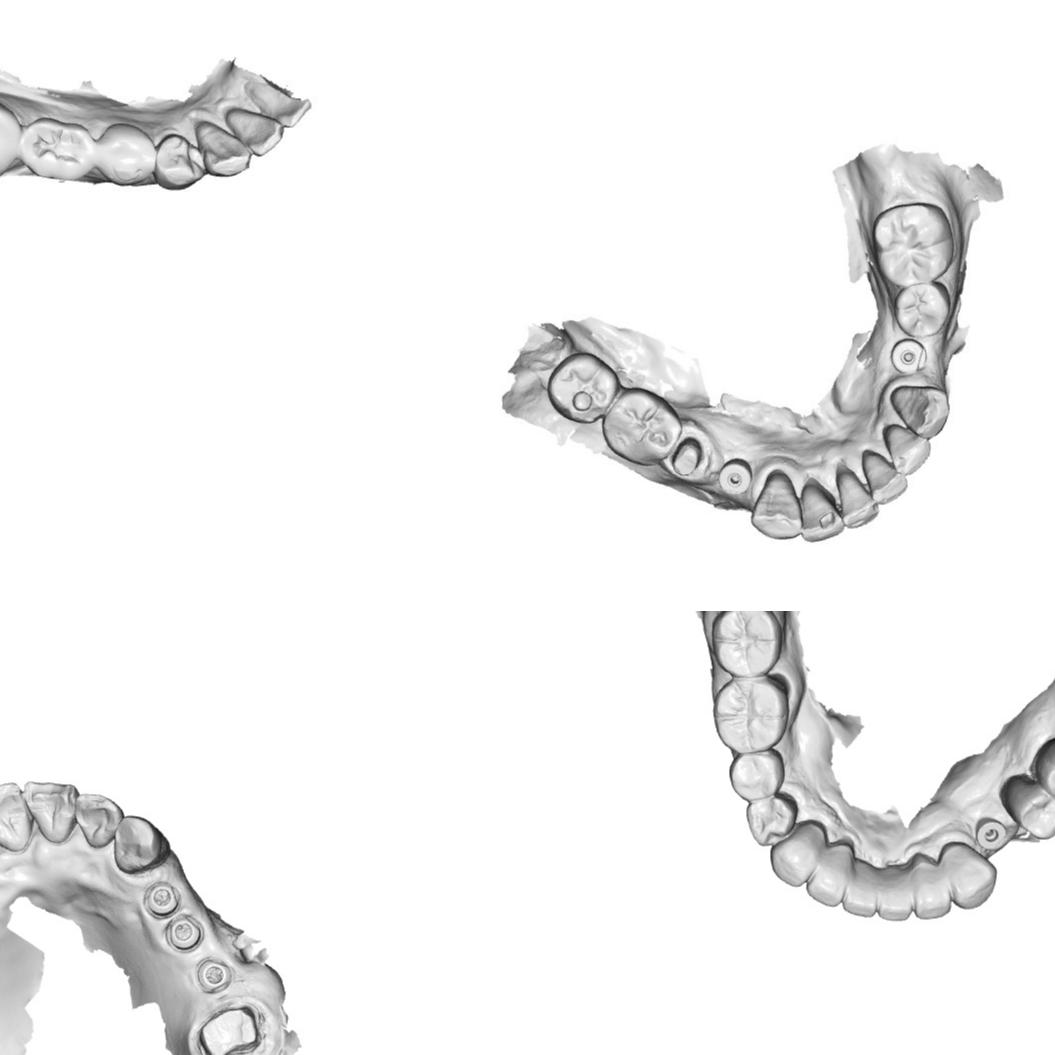canine: (938, 840, 998, 911), (750, 470, 801, 547), (769, 820, 827, 887), (886, 382, 950, 441), (112, 814, 171, 876), (153, 134, 206, 194)
crown: (194, 1001, 262, 1055), (671, 435, 702, 478)
implant: (142, 880, 182, 918), (166, 914, 203, 952), (196, 956, 232, 994), (889, 336, 924, 371), (719, 459, 750, 498), (974, 817, 1006, 850)
incisor: (22, 780, 80, 845), (805, 842, 854, 907), (796, 485, 845, 546), (73, 792, 125, 849), (199, 120, 250, 176), (911, 852, 952, 920), (837, 467, 881, 526), (886, 426, 931, 480), (863, 450, 907, 505), (0, 780, 34, 851), (229, 110, 283, 152), (876, 864, 913, 922), (842, 858, 876, 917)
molar: (869, 206, 957, 282), (712, 674, 790, 755), (711, 611, 783, 677), (604, 396, 678, 459), (552, 359, 613, 418), (0, 95, 21, 181)
premolar: (22, 122, 92, 179), (998, 772, 1055, 840), (98, 125, 158, 183), (728, 747, 786, 803), (895, 283, 950, 338), (745, 791, 798, 847), (1031, 735, 1055, 810)
